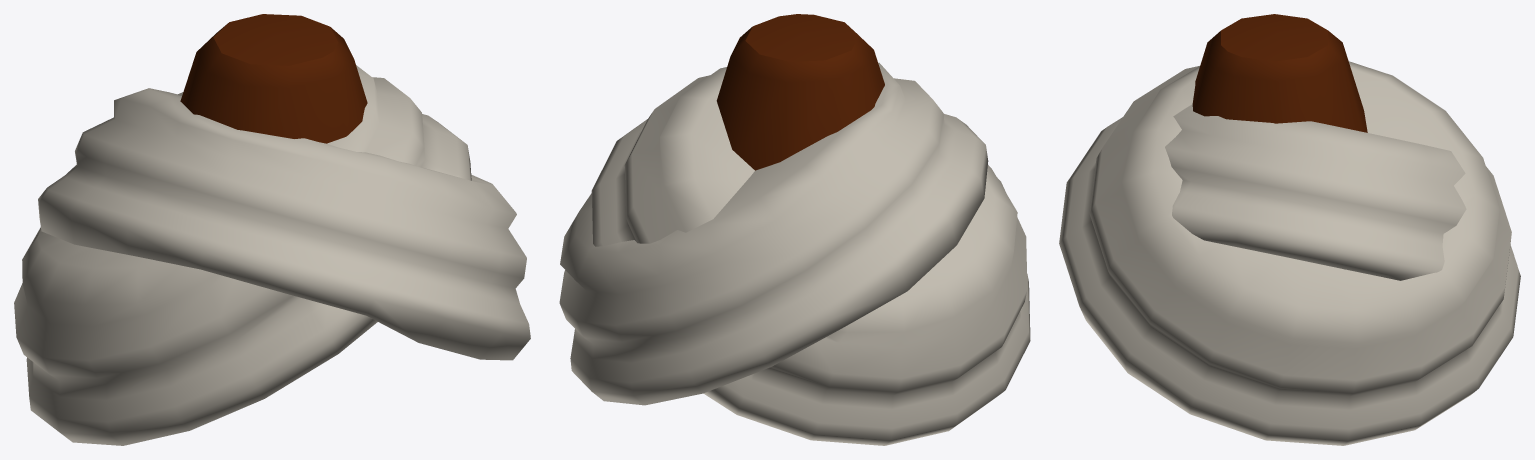
Rendered from Hat_107_02.fbx.
3 views of the same model, side by side, from view 1: azimuth 30°, elevation 25°; view 2: azimuth 150°, elevation 25°; view 3: azimuth 270°, elevation 25° (orthographic). The views are drawn at different scales.
Visible parts, largest first — view 1: Hat_107_02; view 2: Hat_107_02; view 3: Hat_107_02.
Part boxes in pixels (<box>): Hat_107_02: <box>14,14,530,445</box>; Hat_107_02: <box>559,14,1030,445</box>; Hat_107_02: <box>1059,14,1520,445</box>.
Size of the model in its own units: 42.98 by 33.1 by 42.1.
